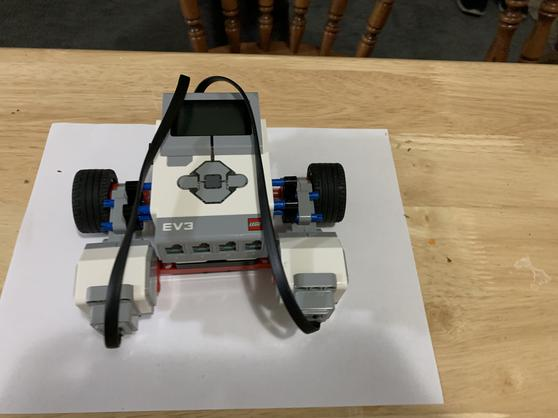robot: (70, 74, 349, 342)
